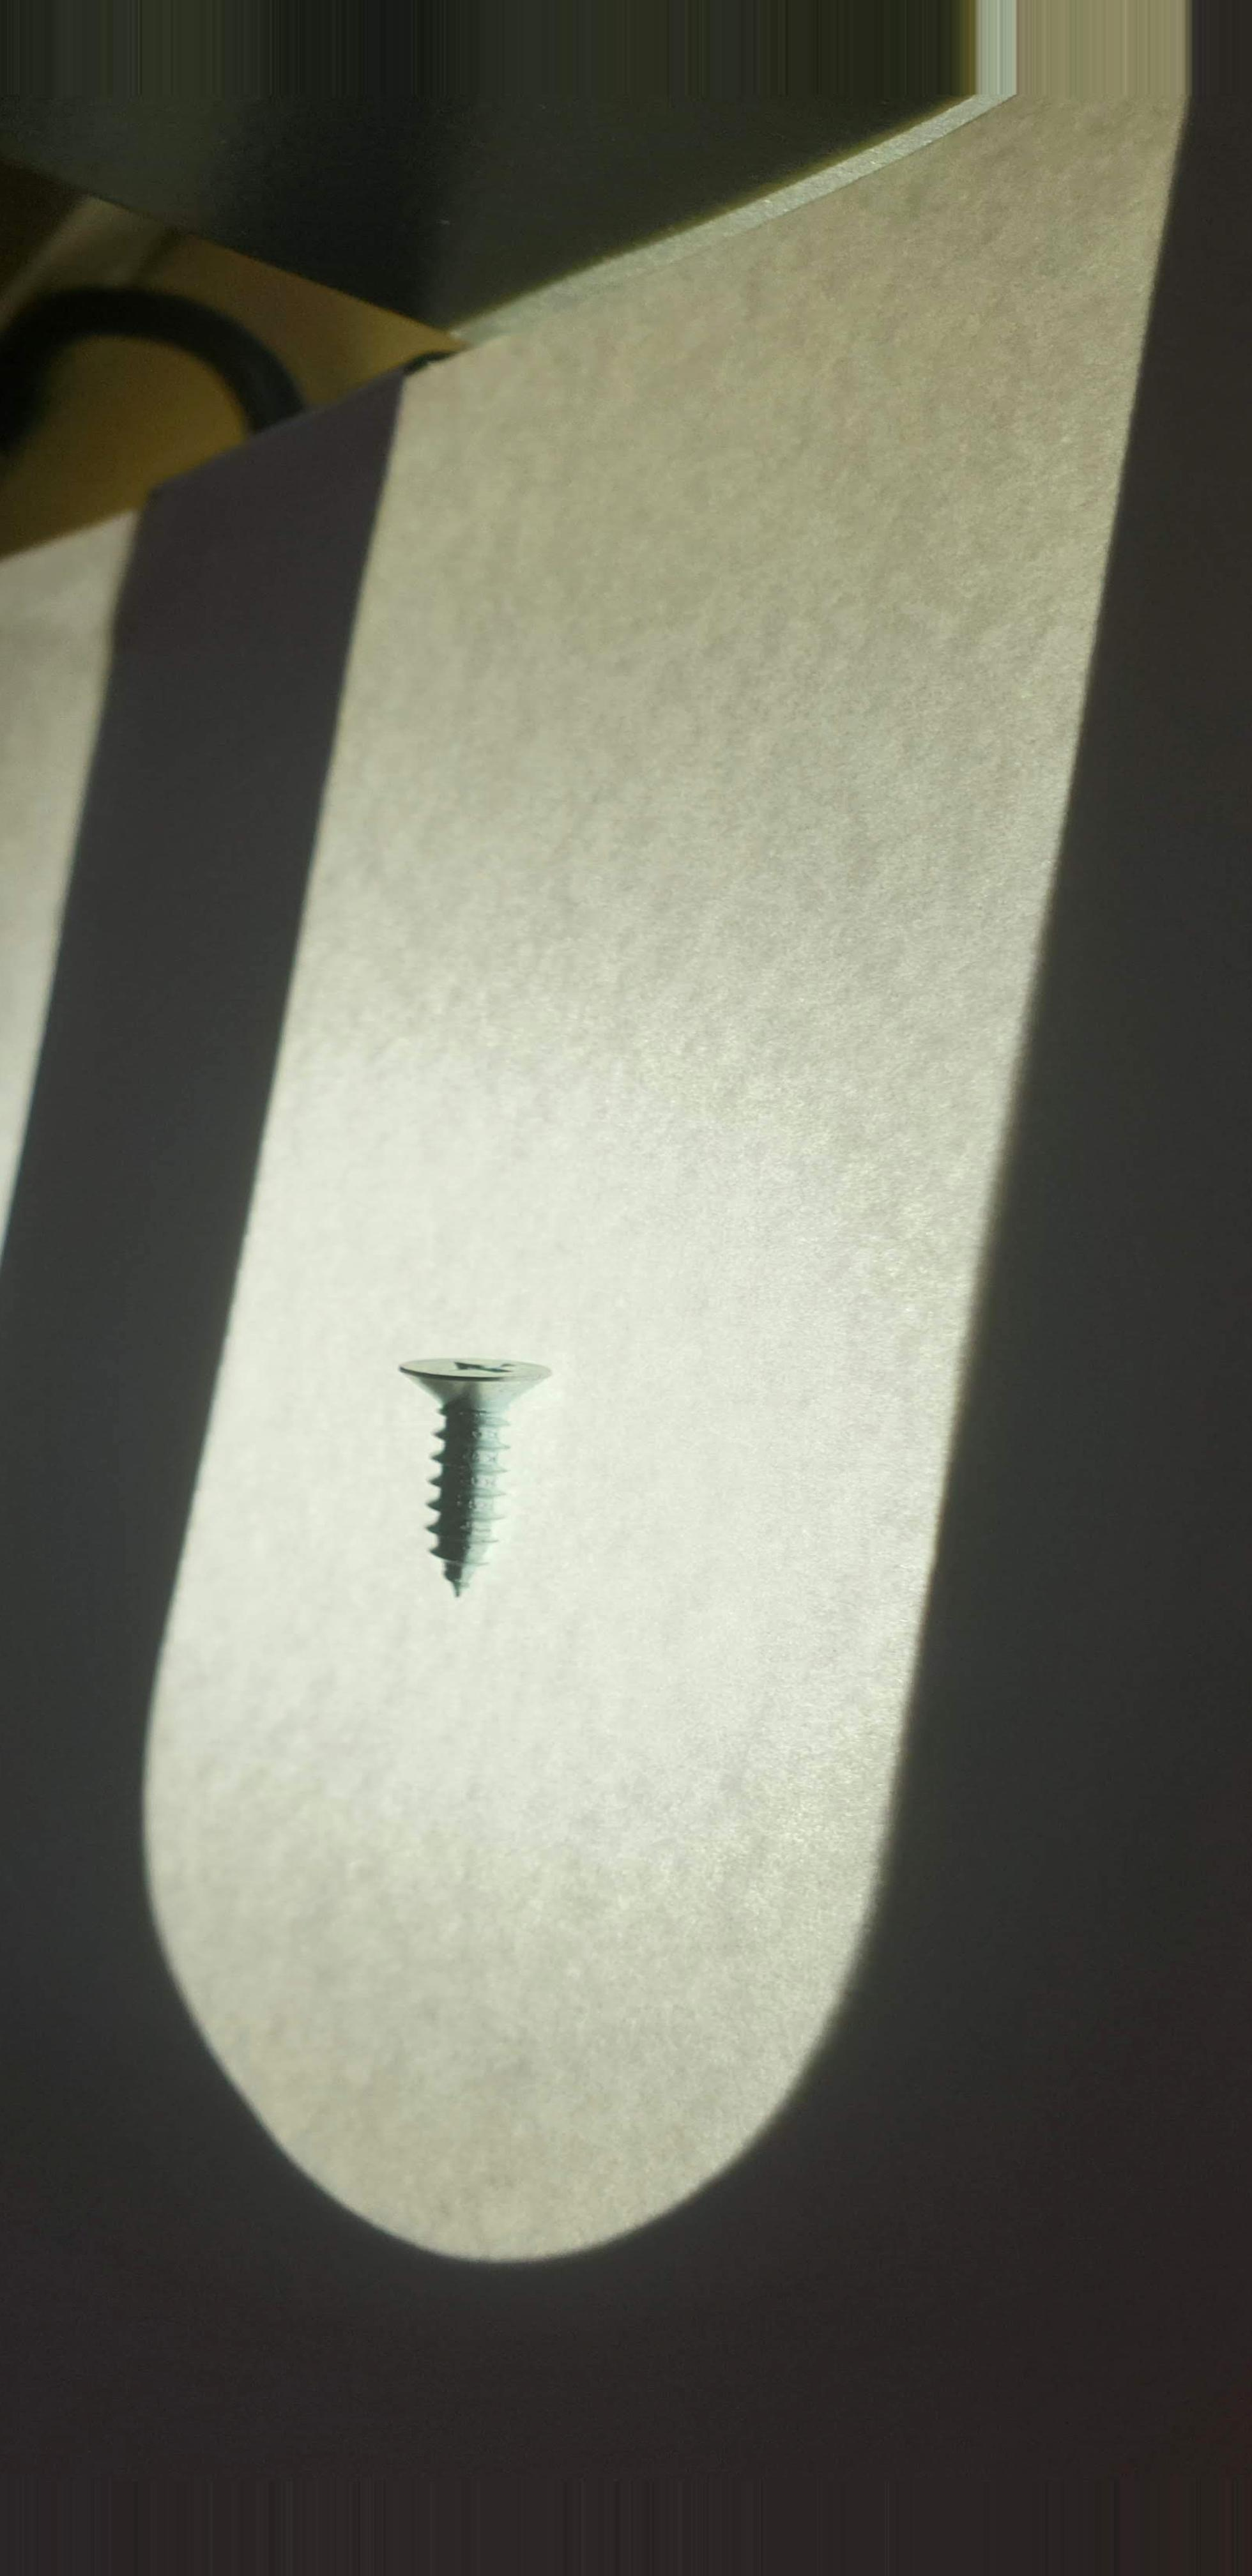S003: (368, 1291, 573, 1633)
